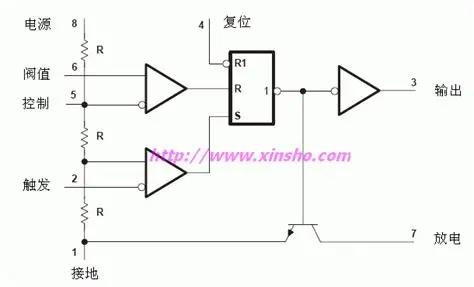bistable flip-flop: (228, 50, 275, 126)
comparator1: (145, 63, 189, 115), (146, 147, 188, 198)
discharge circuit: (286, 221, 322, 243)
output circuit: (338, 65, 381, 116)
reset circuit: (188, 15, 225, 39)
resistance: (80, 128, 89, 149), (81, 203, 89, 226), (81, 39, 89, 60)
